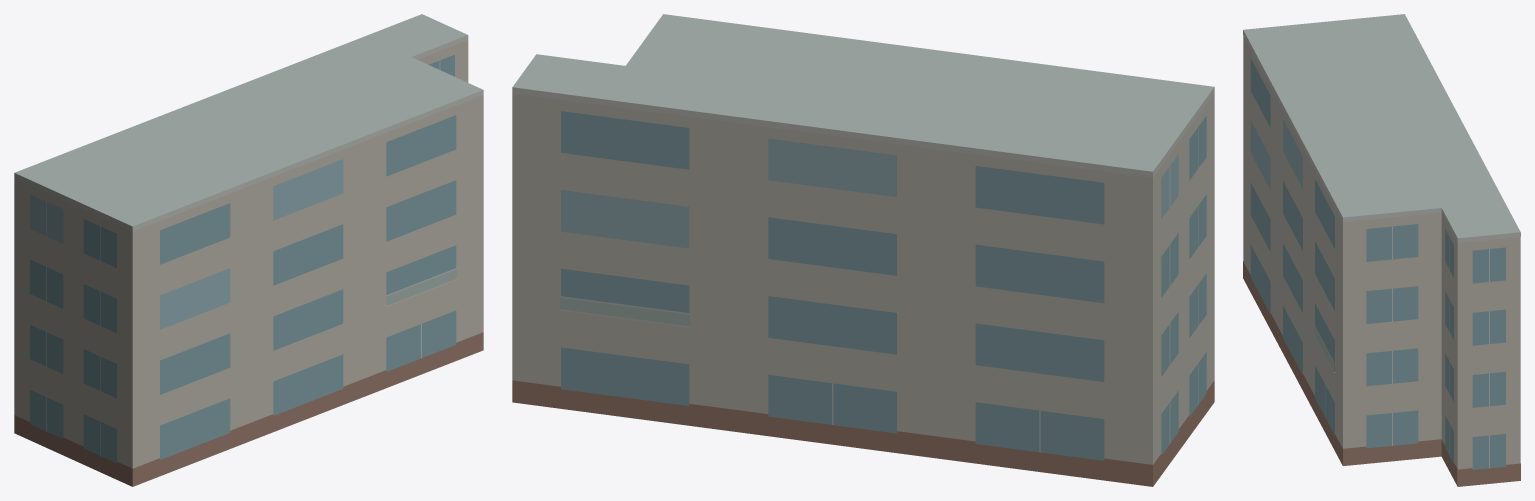
The model's file is survey-upis-32551689.glb.
The picture shows the model from 3 angles, left to right: view 1: azimuth 30°, elevation 25°; view 2: azimuth 150°, elevation 25°; view 3: azimuth 270°, elevation 25°; orthographic projection. The views are drawn at different scales.
Visible parts, largest first — view 1: survey-upis-32551689.tmp; view 2: survey-upis-32551689.tmp; view 3: survey-upis-32551689.tmp.
Boxes of the visible parts, x1,y1,x2,y2 form: survey-upis-32551689.tmp: (14,14,483,486); survey-upis-32551689.tmp: (512,14,1214,486); survey-upis-32551689.tmp: (1243,14,1520,486).
Size of the model in its own units: 24.48 by 12.64 by 12.81.
